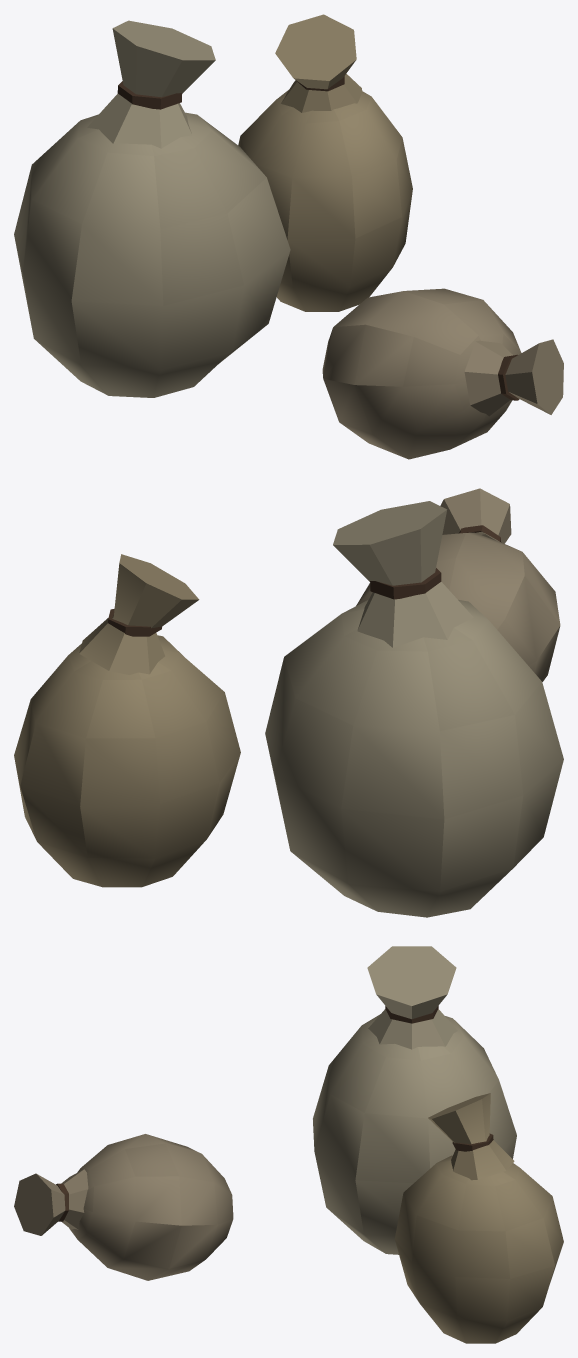
Rendered from bolsas.glb.
3 renders of one model, top to bottom at view 1: azimuth 30°, elevation 25°; view 2: azimuth 150°, elevation 25°; view 3: azimuth 270°, elevation 25°, orthographic. The views are drawn at different scales.
Parts seen in each view (by area): view 1: Bolsas; view 2: Bolsas; view 3: Bolsas.
Boxes of the visible parts, <box> form: Bolsas: <box>14,14,563,459</box>; Bolsas: <box>14,488,563,917</box>; Bolsas: <box>14,946,563,1343</box>.
Size of the model in its own units: 0.5806 by 0.4848 by 0.8167.
